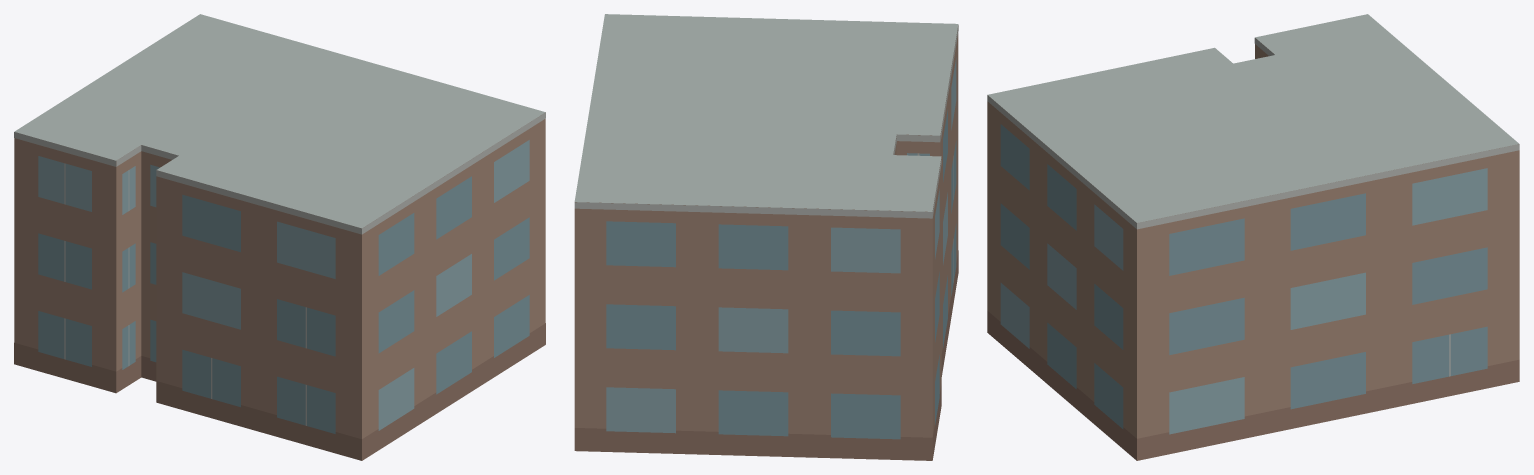
Rendered from survey-upis-32941873.glb.
The picture shows the model from 3 angles, left to right: view 1: azimuth 30°, elevation 25°; view 2: azimuth 150°, elevation 25°; view 3: azimuth 270°, elevation 25°; orthographic projection. The views are drawn at different scales.
Visible parts, largest first — view 1: survey-upis-32941873.tmp; view 2: survey-upis-32941873.tmp; view 3: survey-upis-32941873.tmp.
Boxes of the visible parts, x1,y1,x2,y2 form: survey-upis-32941873.tmp: [14, 14, 545, 460]; survey-upis-32941873.tmp: [574, 14, 958, 460]; survey-upis-32941873.tmp: [987, 14, 1519, 460].
Bounding box in the file's own units: 17.26 × 9.15 × 18.57.
